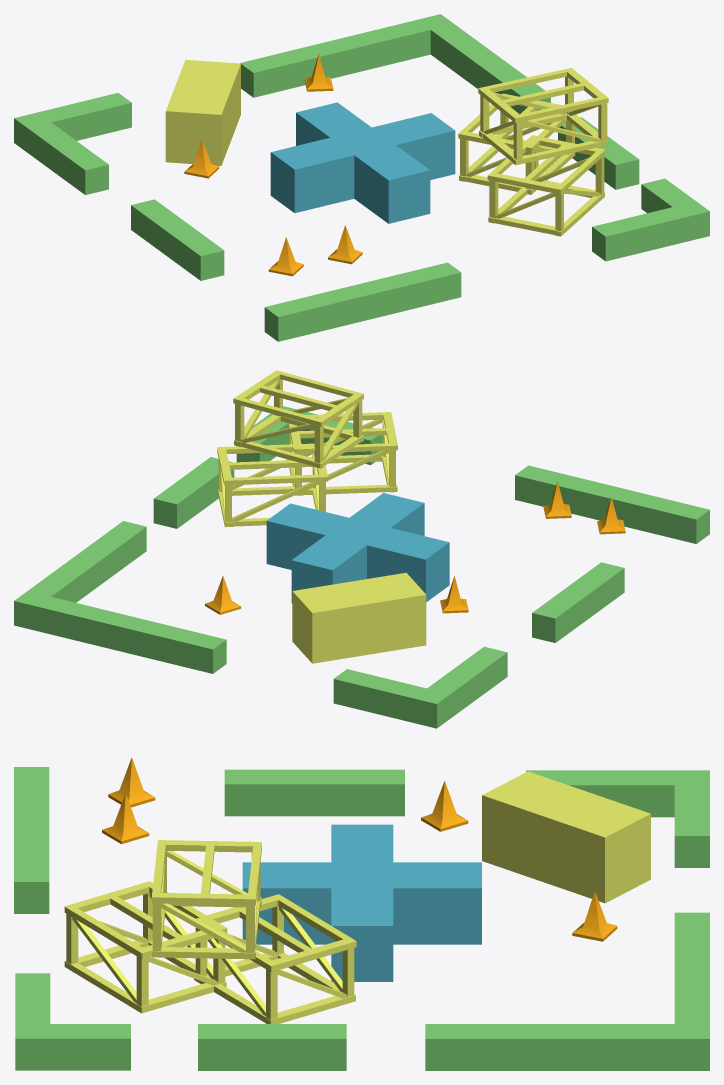
File: BMark3.fbx
The picture shows the model from 3 angles, top to bottom: view 1: azimuth 30°, elevation 25°; view 2: azimuth 150°, elevation 25°; view 3: azimuth 270°, elevation 25°; orthographic projection. The views are drawn at different scales.
Parts seen in each view (by area): view 1: BMark3; view 2: BMark3; view 3: BMark3.
Part boxes in pixels (x1,y1,x2,y2): BMark3: [14, 14, 709, 341]; BMark3: [14, 370, 709, 728]; BMark3: [14, 757, 709, 1070].
Bounding box in the file's own units: 233 × 57.08 × 252.
